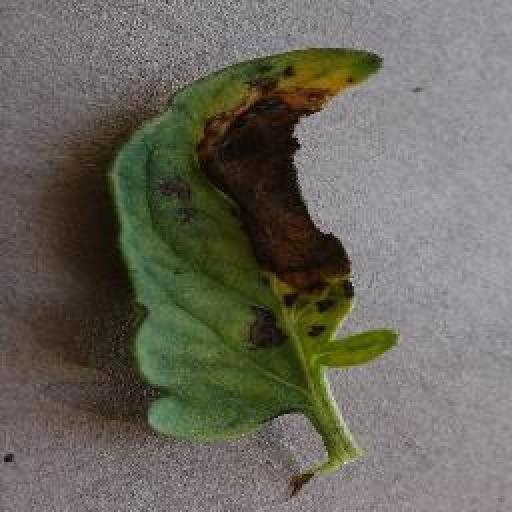Early Blight: (106, 44, 403, 439)
